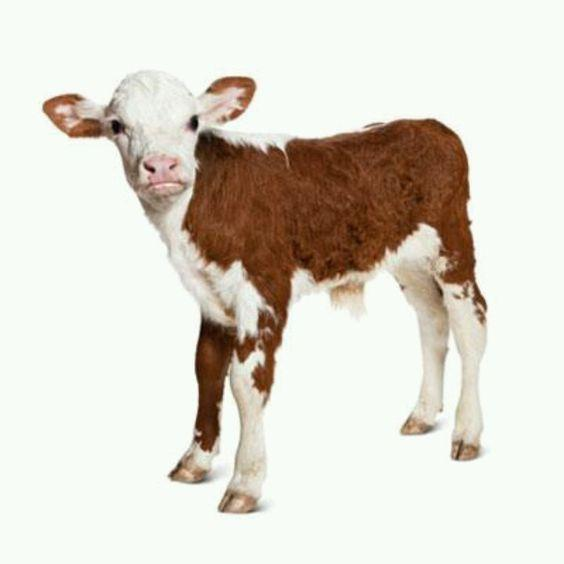cow: (32, 53, 533, 513)
